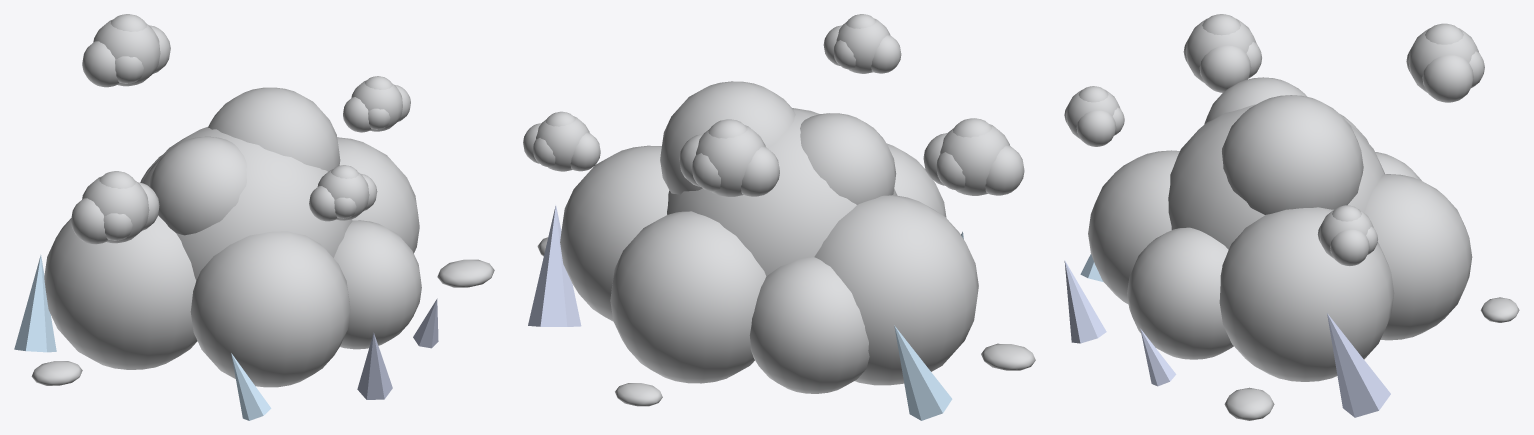
The model's file is SkyCloud.fbx.
The picture shows the model from 3 angles, left to right: view 1: azimuth 30°, elevation 25°; view 2: azimuth 150°, elevation 25°; view 3: azimuth 270°, elevation 25°; orthographic projection. The views are drawn at different scales.
Visible parts, largest first — view 1: Cloud, SkyStones, Tuft_1, Tuft_3, Tuft_0, Tuft_2; view 2: Cloud, SkyStones, Tuft_1, Tuft_3, Tuft_0, Tuft_2; view 3: Cloud, SkyStones, Tuft_3, Tuft_1, Tuft_0, Tuft_2.
Boxes of the visible parts, left/top/right/bottom form: Cloud: left=44, top=87, right=421, bottom=387; SkyStones: left=14, top=255, right=494, bottom=420; Tuft_1: left=71, top=171, right=159, bottom=244; Tuft_3: left=82, top=14, right=170, bottom=87; Tuft_0: left=343, top=76, right=410, bottom=132; Tuft_2: left=309, top=165, right=377, bottom=221; Cloud: left=560, top=81, right=978, bottom=393; SkyStones: left=528, top=205, right=1035, bottom=420; Tuft_1: left=923, top=118, right=1024, bottom=195; Tuft_3: left=679, top=119, right=779, bottom=196; Tuft_0: left=523, top=111, right=600, bottom=171; Tuft_2: left=823, top=14, right=901, bottom=73; Cloud: left=1088, top=77, right=1472, bottom=381; SkyStones: left=1064, top=254, right=1519, bottom=420; Tuft_3: left=1406, top=23, right=1484, bottom=102; Tuft_1: left=1183, top=14, right=1261, bottom=92; Tuft_0: left=1317, top=205, right=1377, bottom=266; Tuft_2: left=1064, top=86, right=1124, bottom=146.
Bounding box in the file's own units: 1.95 × 1.12 × 1.63.
